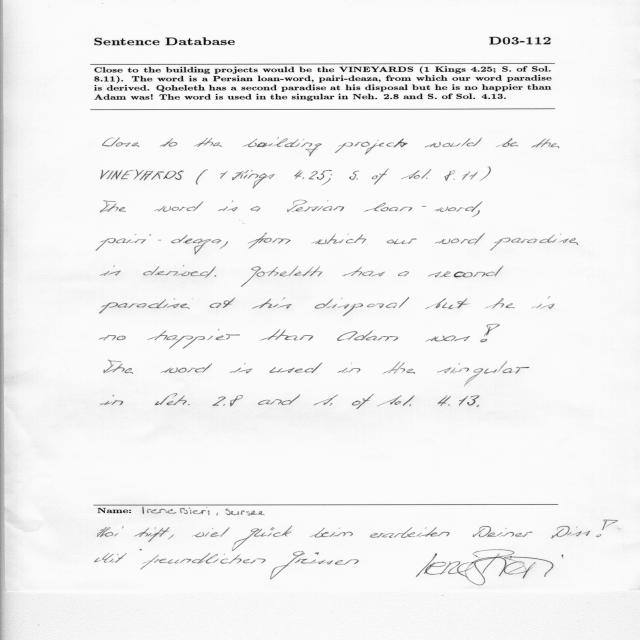word: (96, 234, 222, 254), (437, 361, 530, 386), (148, 329, 240, 349), (315, 297, 409, 316), (241, 266, 322, 287), (243, 137, 322, 156), (490, 234, 578, 251), (100, 298, 190, 314), (364, 201, 482, 212), (335, 139, 408, 155), (143, 265, 216, 278), (101, 170, 184, 181), (428, 266, 503, 278), (232, 170, 275, 189), (248, 233, 291, 249), (287, 200, 344, 212), (338, 330, 399, 341), (261, 329, 314, 341), (311, 234, 366, 245), (435, 233, 485, 245), (270, 363, 323, 374), (425, 138, 482, 148), (155, 201, 204, 212), (161, 363, 213, 373), (425, 298, 469, 309), (252, 297, 292, 309), (258, 394, 300, 405), (438, 396, 480, 407), (342, 267, 385, 277), (155, 394, 190, 406), (377, 395, 415, 406), (383, 361, 415, 374), (104, 360, 133, 374), (294, 170, 332, 180), (444, 170, 478, 181), (480, 324, 500, 342), (212, 395, 243, 406), (100, 200, 126, 213), (103, 138, 139, 147), (352, 394, 373, 409), (401, 169, 431, 179), (485, 298, 515, 308), (532, 296, 555, 309), (372, 168, 389, 185), (210, 297, 236, 308), (532, 139, 560, 149), (426, 336, 470, 342), (314, 395, 338, 406), (194, 138, 222, 147), (100, 265, 121, 276), (230, 363, 253, 373), (338, 363, 361, 373), (218, 201, 238, 212), (101, 395, 123, 405), (496, 138, 518, 147), (196, 170, 208, 185), (387, 238, 417, 244), (160, 138, 178, 147), (480, 167, 491, 181), (100, 335, 126, 340), (322, 174, 332, 185), (350, 171, 360, 180), (220, 241, 228, 249), (251, 206, 261, 212), (221, 171, 228, 179), (472, 210, 480, 217), (398, 271, 409, 276), (215, 275, 217, 277), (477, 405, 479, 407)
